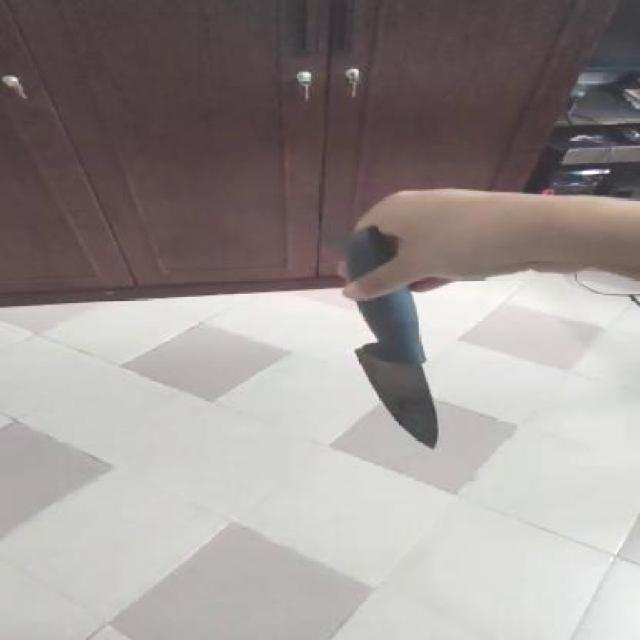knife: (306, 312, 452, 454)
